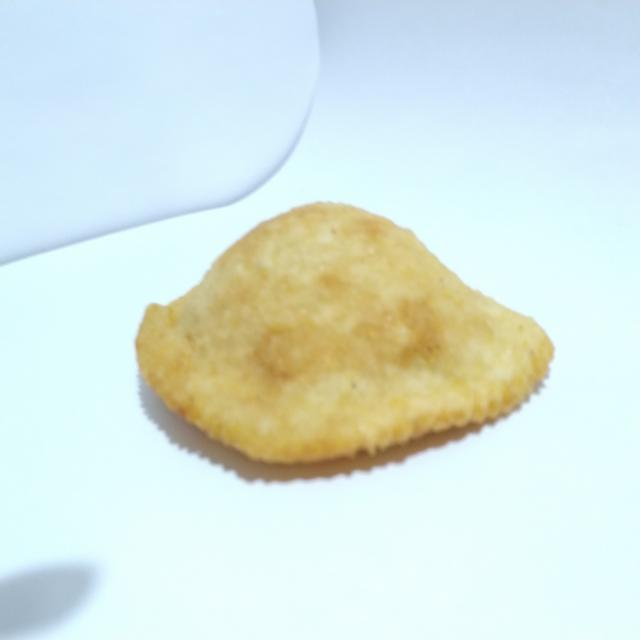Food: (125, 185, 560, 490)
